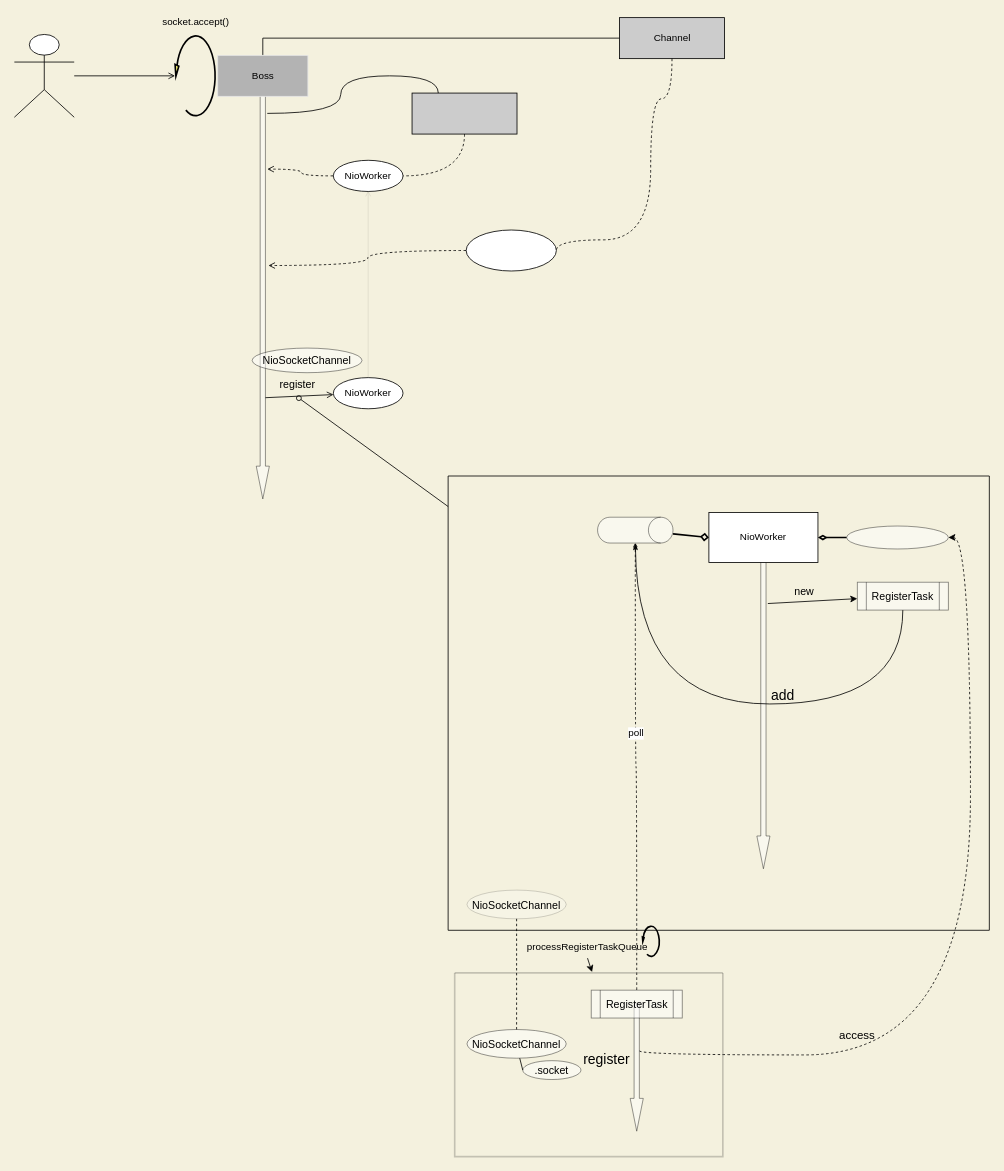
The diagram is 1004 pixels wide and 1171 high, and some of its shapes have lost their labels. Here are the shapes that lost their labels. From the top down, the box of each, then its label:
(14, 34, 74, 117): client socket
(411, 92, 517, 134): ChannelSink
(465, 229, 556, 271): ChannelPipeline
(597, 516, 673, 543): registerTask Queue
(846, 525, 948, 549): selector
(453, 972, 723, 1157): abother thread
